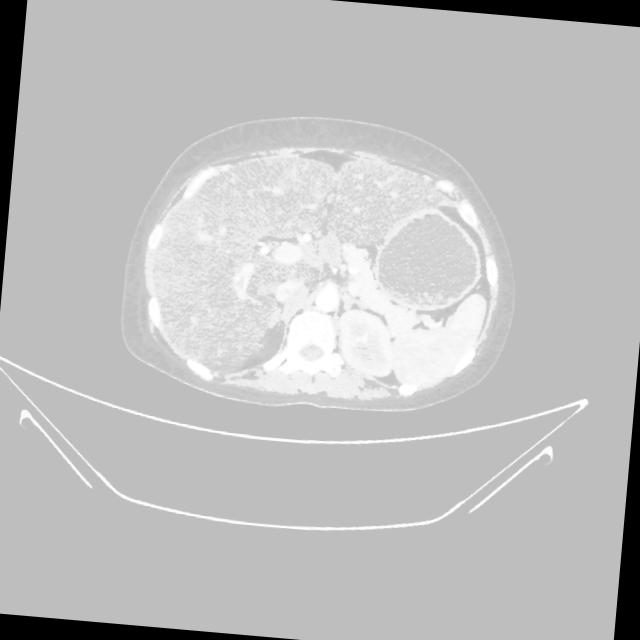NORMAL: (89, 103, 526, 428)
